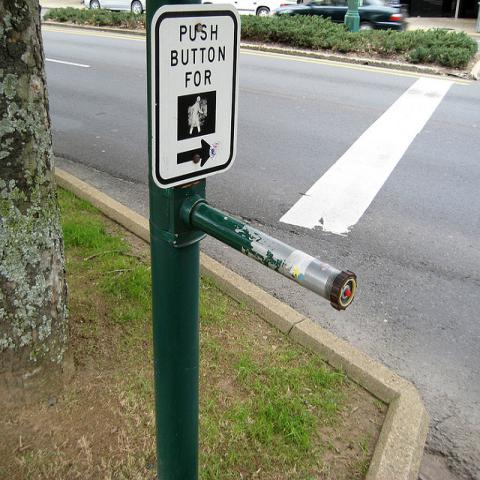car: (279, 0, 408, 24), (201, 0, 297, 15), (83, 0, 148, 18)
